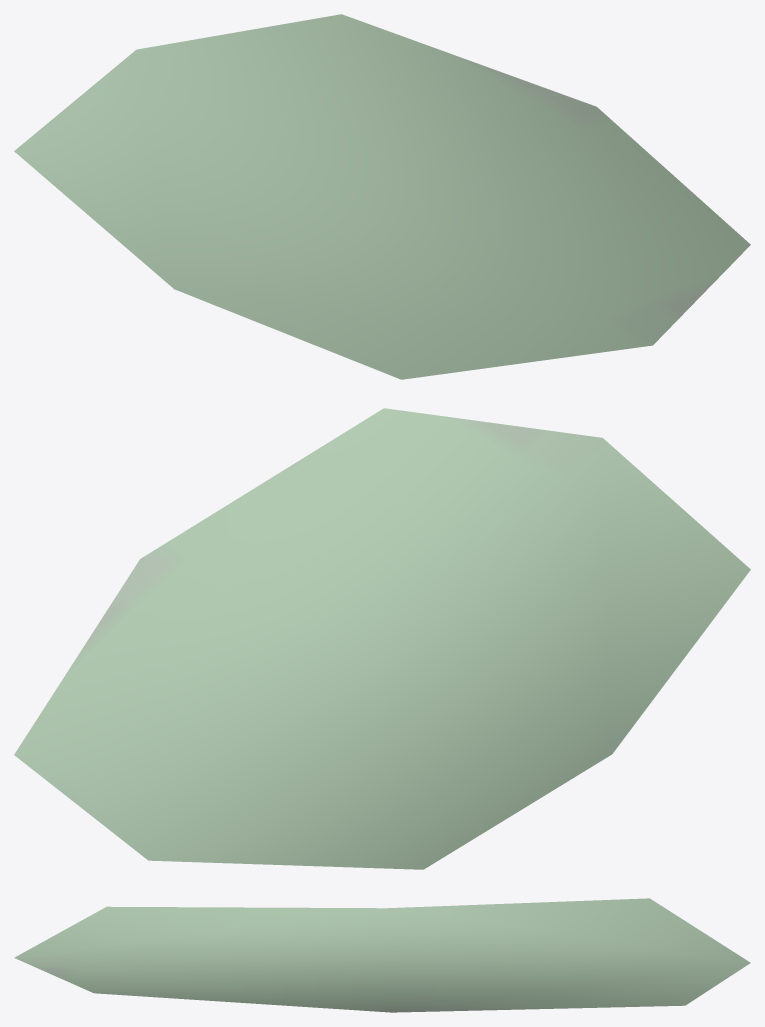
The model's file is TROLLHOLE02_HOLECAP85.fbx.
The picture shows the model from 3 angles, top to bottom: view 1: azimuth 30°, elevation 25°; view 2: azimuth 150°, elevation 25°; view 3: azimuth 270°, elevation 25°; orthographic projection. The views are drawn at different scales.
Parts seen in each view (by area): view 1: TROLLHOLE02_HOLECAP85; view 2: TROLLHOLE02_HOLECAP85; view 3: TROLLHOLE02_HOLECAP85.
Boxes of the visible parts, bbox=[...] form: TROLLHOLE02_HOLECAP85: bbox=[14, 14, 750, 379]; TROLLHOLE02_HOLECAP85: bbox=[14, 408, 750, 869]; TROLLHOLE02_HOLECAP85: bbox=[14, 898, 750, 1012].
Size of the model in its own units: 8753 by 1649 by 16544.
Materials: 1 (1 with a texture image).
